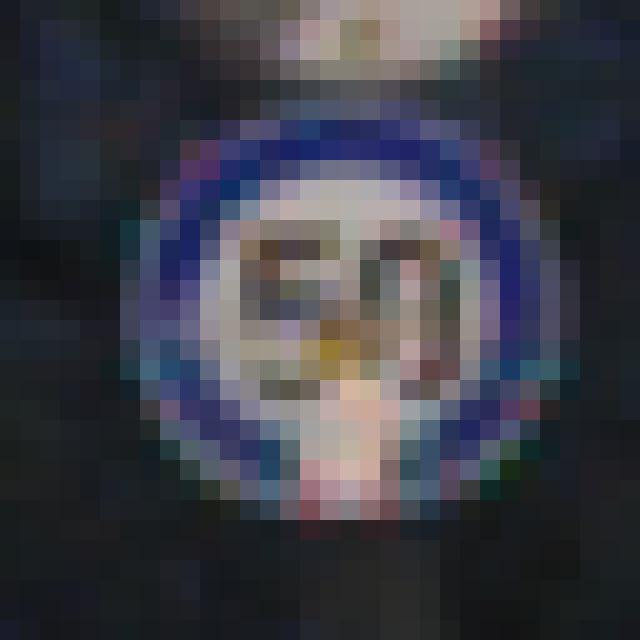SPEED LIMIT 50: (176, 152, 498, 470)
